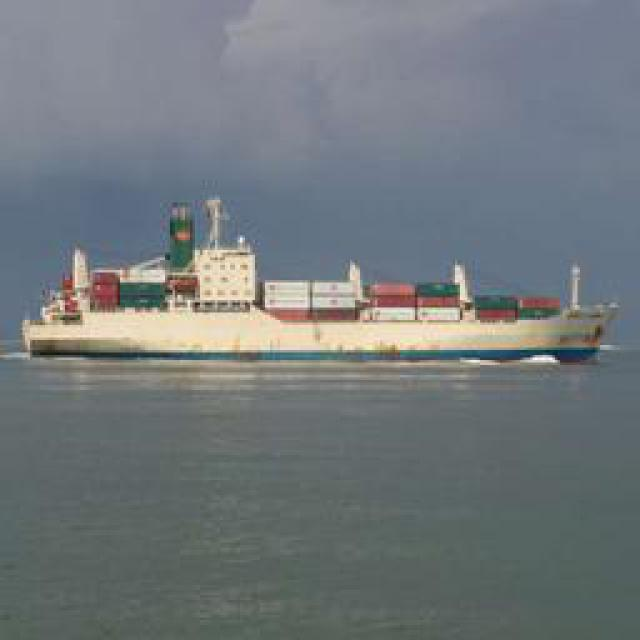Ship: (20, 207, 618, 370)
